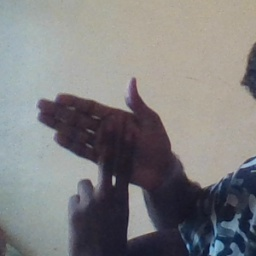N: (31, 74, 163, 225)
